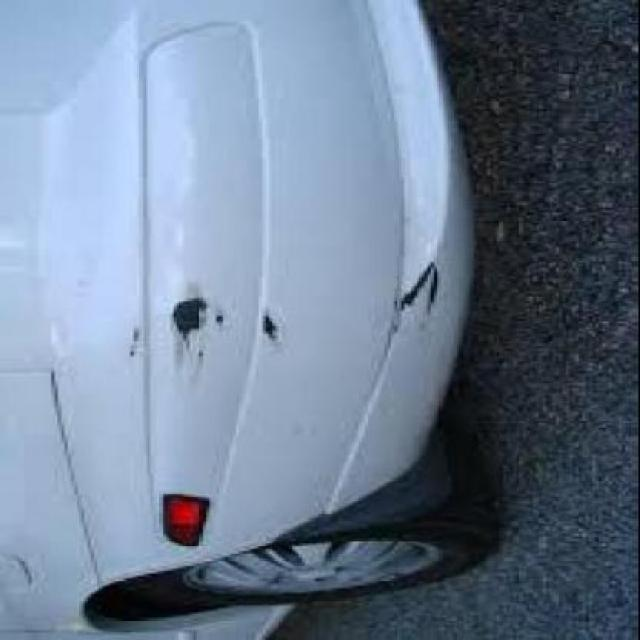damage: (126, 290, 294, 382), (381, 255, 447, 349)
